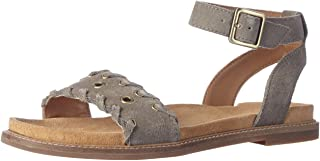shoes: (1, 1, 320, 159)
